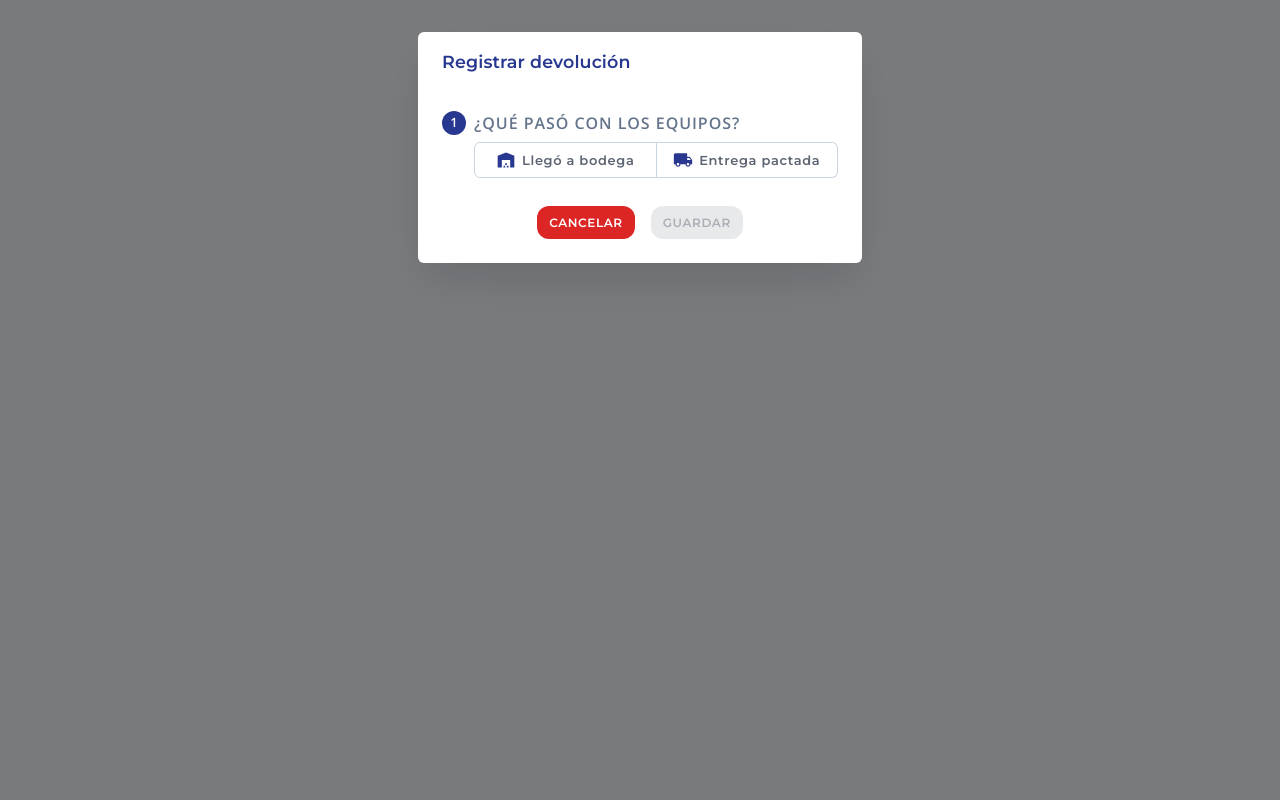
RegistrarDevolucionDialog — primero la decisión › cambiar de decisión borra lo que se había escrito
The width and height of the screenshot is (1280, 800).
Click the button "Llegó a bodega" at (565, 160), box [474, 142, 656, 178]
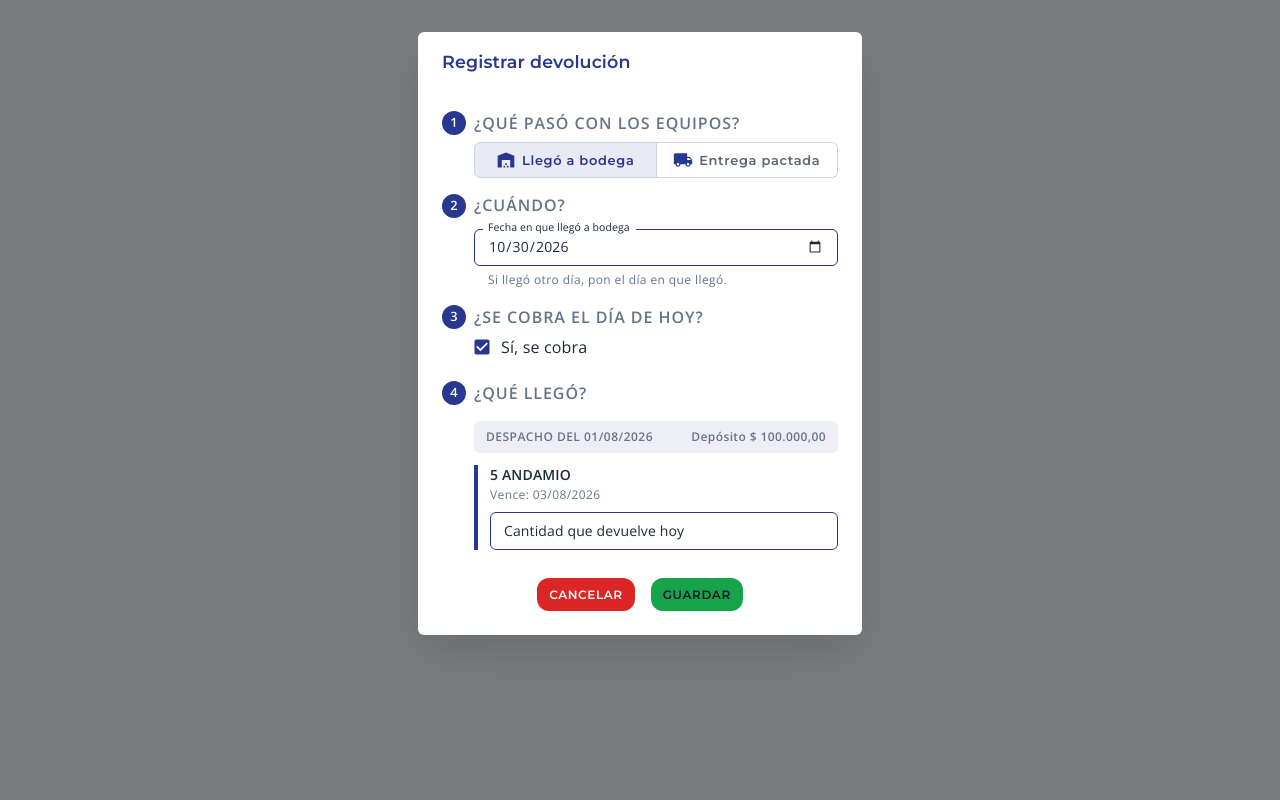
Type "5" into the number field labelled "Cantidad que devuelve hoy" at (664, 531), box [490, 512, 838, 550]
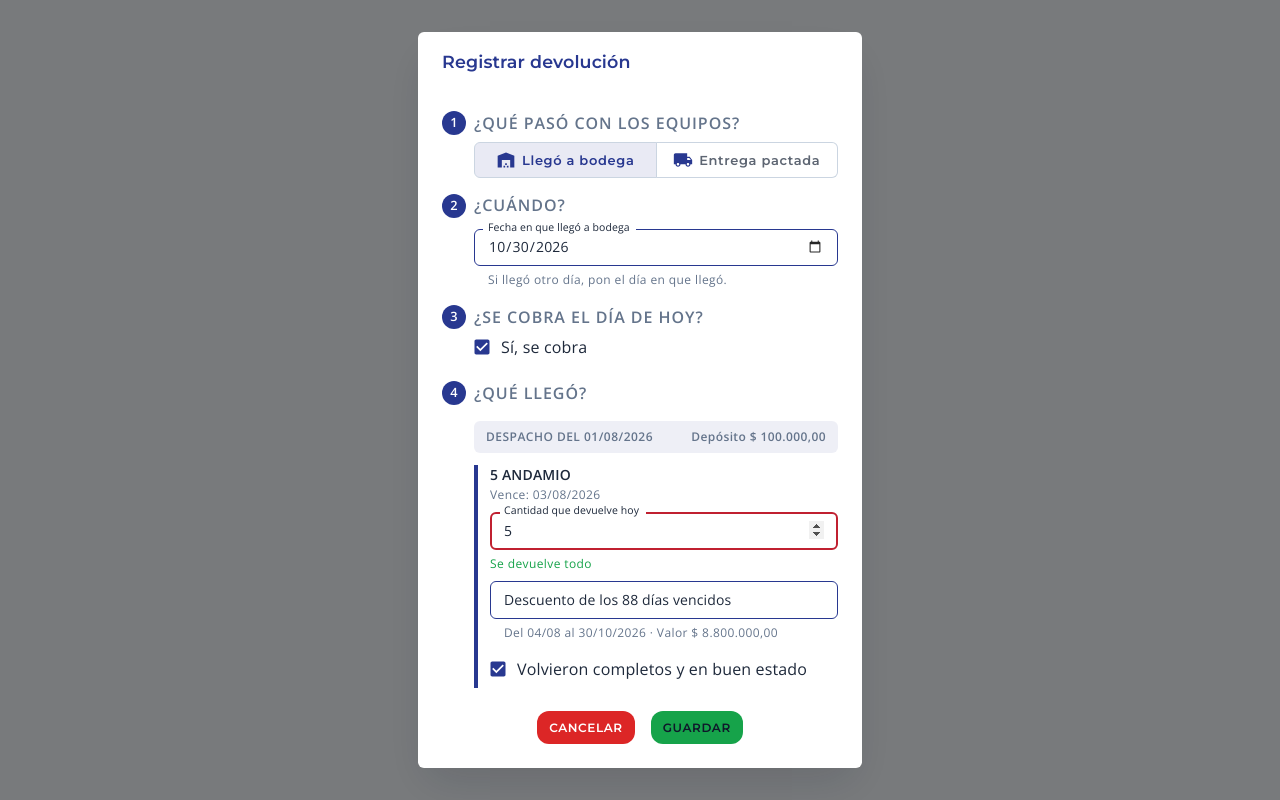
Click the button "Entrega pactada" at (747, 160), box [656, 142, 838, 178]
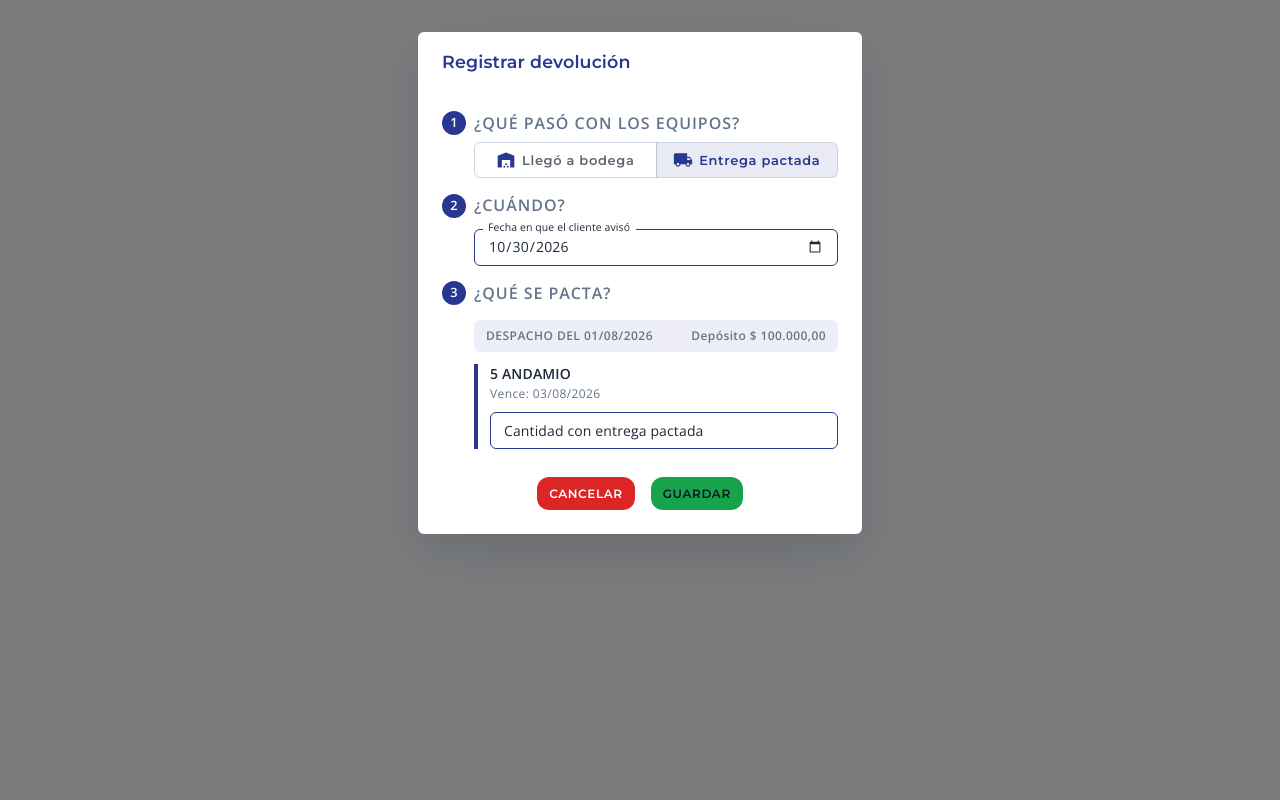
Check: the number field labelled "Cantidad con entrega pactada" is not empty, box [490, 412, 838, 449]
